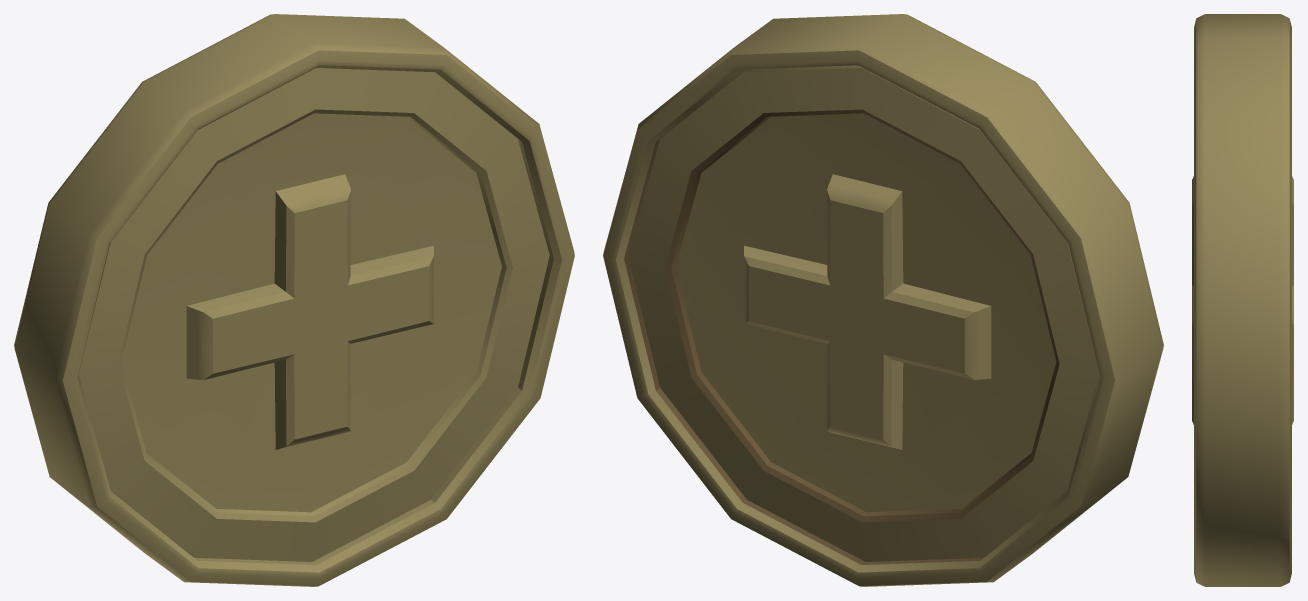
Rendered from Plus_Coin.fbx.
3 views of the same model, side by side, from view 1: azimuth 30°, elevation 25°; view 2: azimuth 150°, elevation 25°; view 3: azimuth 270°, elevation 25° (orthographic). The views are drawn at different scales.
Parts seen in each view (by area): view 1: polySurface2; view 2: polySurface2; view 3: polySurface2.
Part boxes in pixels (box(x1,y1,x2,y2)): polySurface2: box(14, 14, 574, 586); polySurface2: box(603, 14, 1163, 586); polySurface2: box(1192, 14, 1293, 586).
Size of the model in its own units: 24.01 by 24.01 by 4.25.
